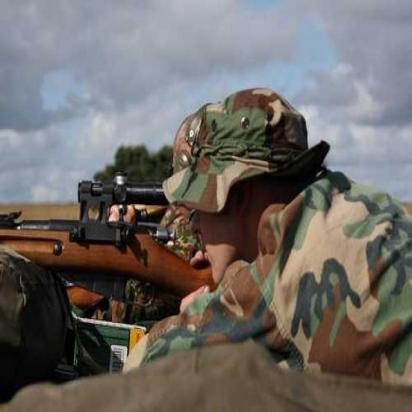Gun: (0, 167, 226, 292)
